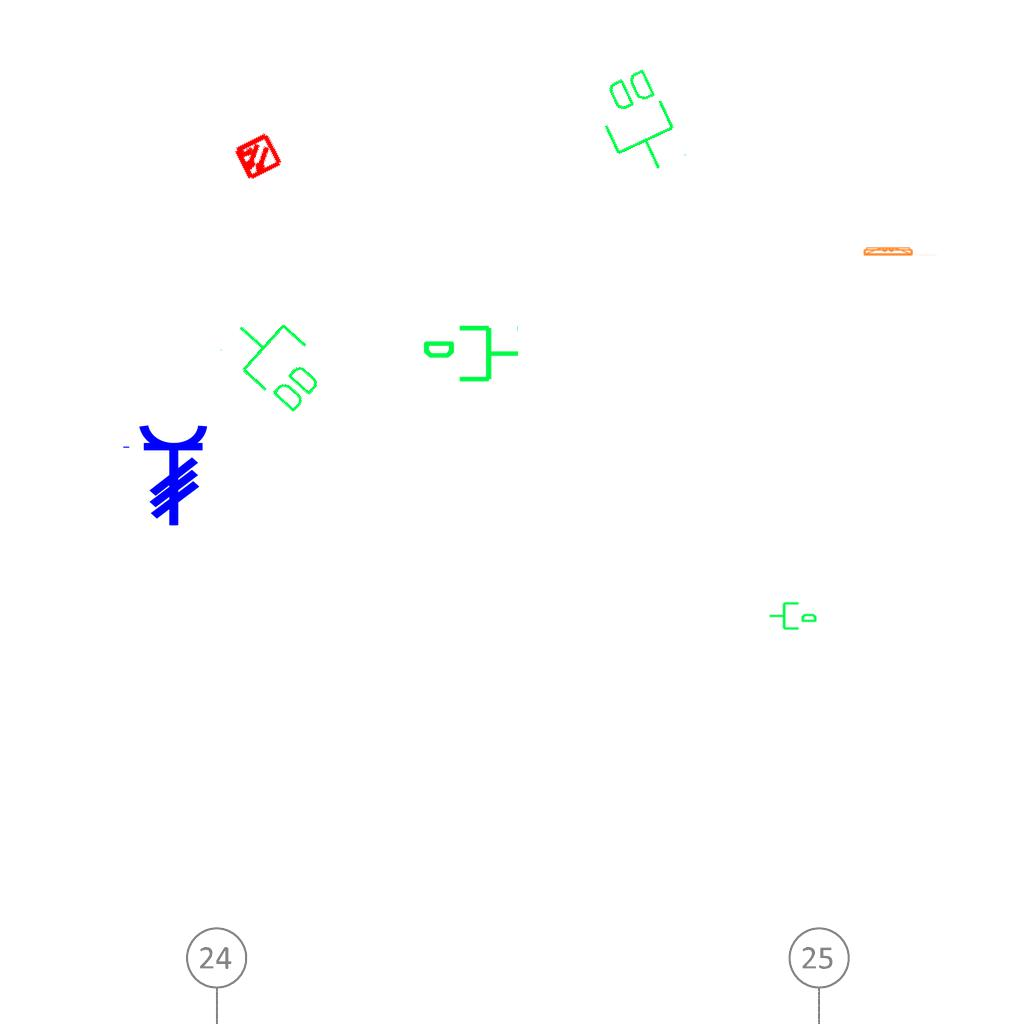CEE_Drehstrom_Steckdose_16_32_A: (120, 423, 210, 527)
Datenanschluss_einfach: (421, 321, 521, 390), (768, 598, 818, 632)
Datenanschluss_zweifach: (215, 300, 338, 421), (585, 62, 692, 185)
OT_Multisensormelder_(Kombination_RMO_WMD): (219, 119, 295, 195)
Sicherheitsleuchte_Wandeinbau: (861, 245, 940, 257)
